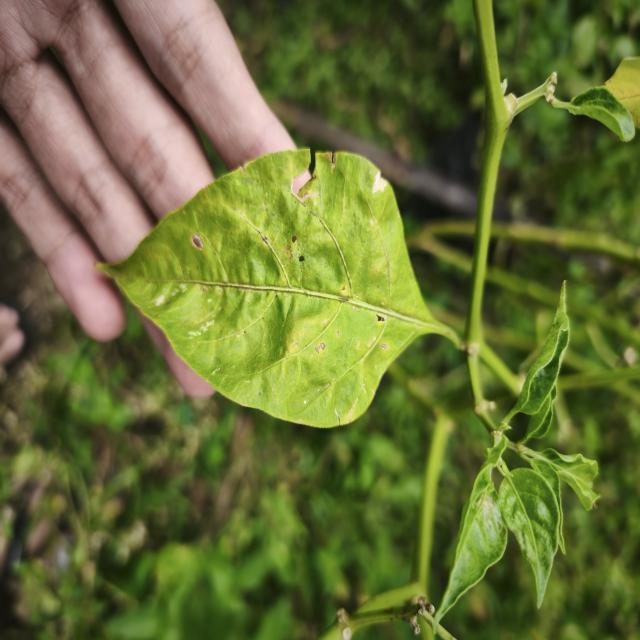Virus Kuning: (95, 146, 437, 430)
